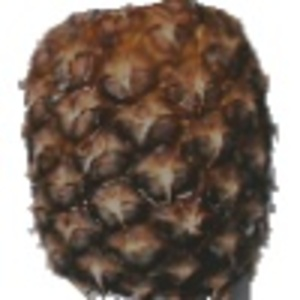abacaxi: (17, 3, 282, 297)
